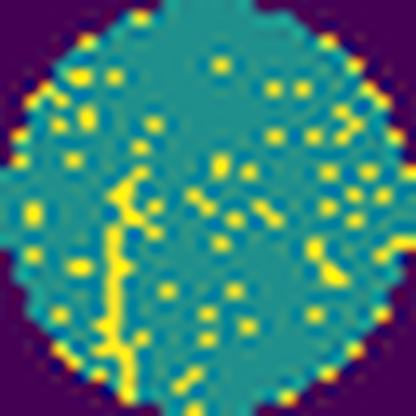Scratch: (88, 164, 163, 405)
